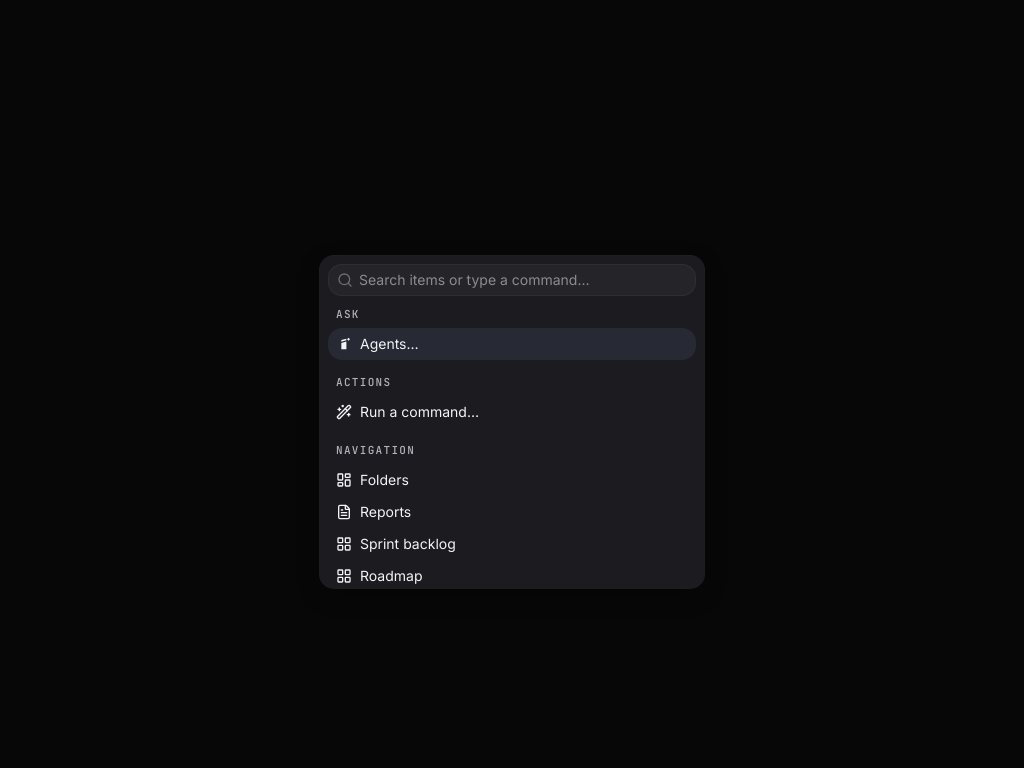
CommandPalette › debounces then searches and lists matching items with their board
Type "design" into the dropdown with placeholder "Search items or type a command…" at point(524, 280), box x1=353 y1=270 x2=695 y2=290
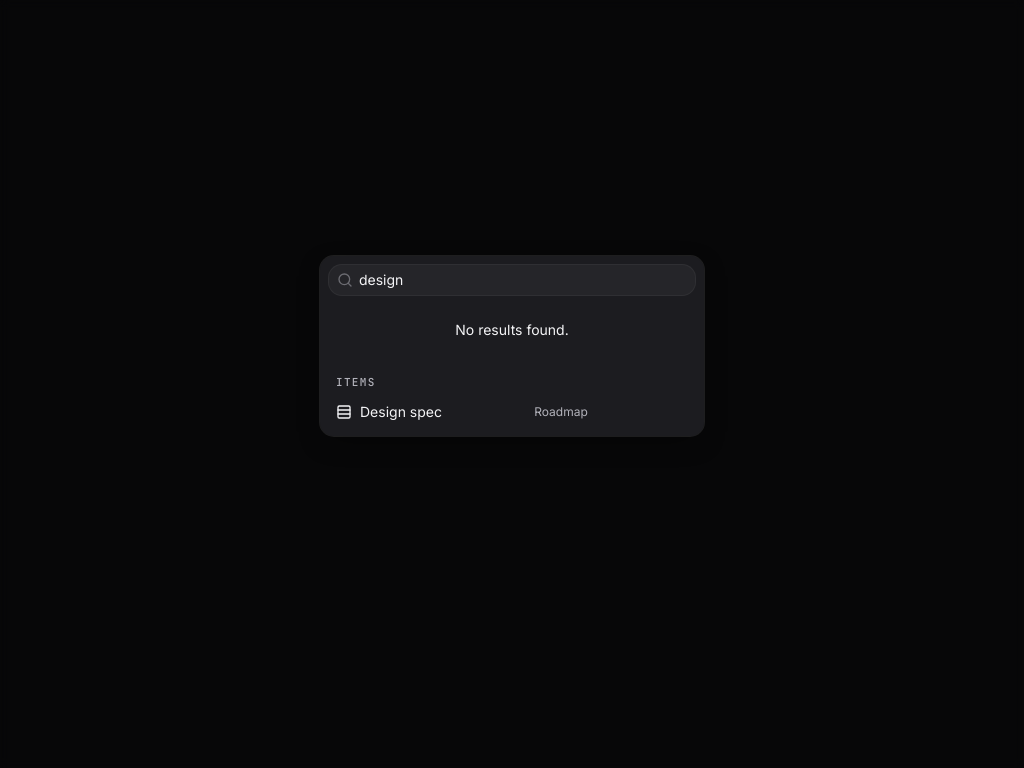
Check: the text "Design spec" is shown, box x1=360 y1=402 x2=442 y2=422
